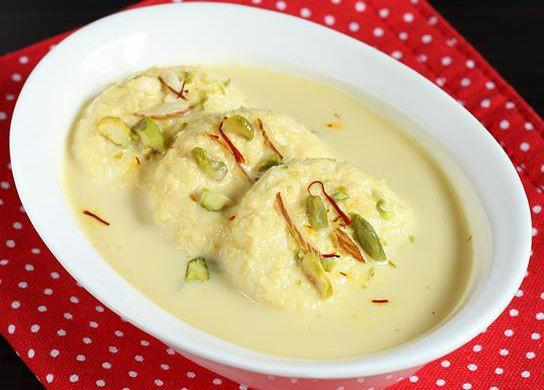RasMalai: (65, 65, 470, 359)
